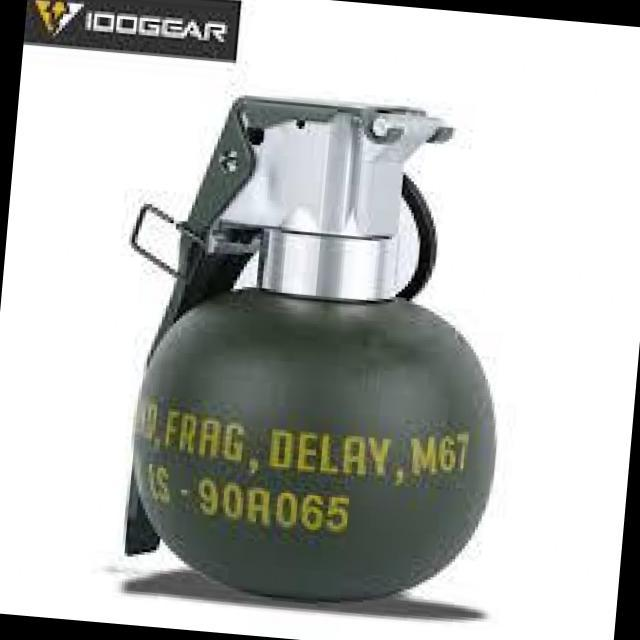grenade: (99, 69, 532, 618)
